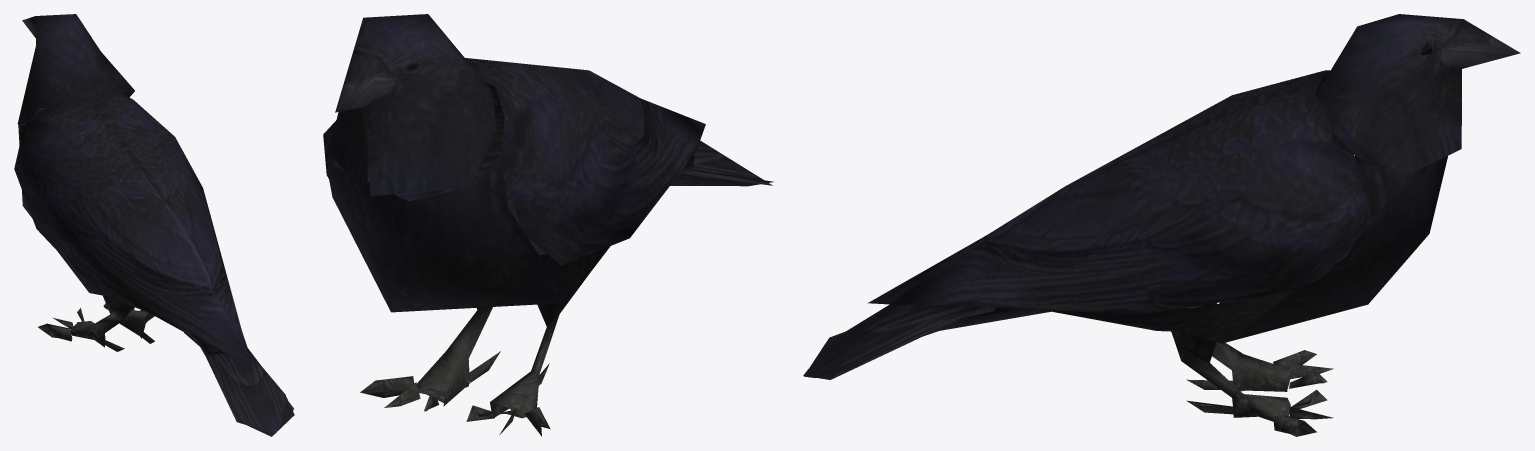
File: crow_lo.glb
3 views of the same model, side by side, from view 1: azimuth 30°, elevation 25°; view 2: azimuth 150°, elevation 25°; view 3: azimuth 270°, elevation 25° (orthographic). The views are drawn at different scales.
Parts seen in each view (by area): view 1: crow_lo; view 2: crow_lo; view 3: crow_lo.
Part boxes in pixels (bbox=[...]): crow_lo: bbox=[14, 14, 294, 436]; crow_lo: bbox=[323, 14, 773, 436]; crow_lo: bbox=[803, 14, 1520, 436].
Bounding box in the file's own units: 0.1525 × 0.2765 × 0.4592.
1 material, 1 textured.
